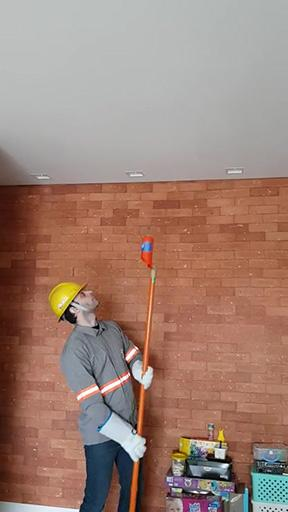Detector_Tensao_Contato: (140, 229, 155, 272)
Vara_Manobra: (127, 269, 157, 512)
